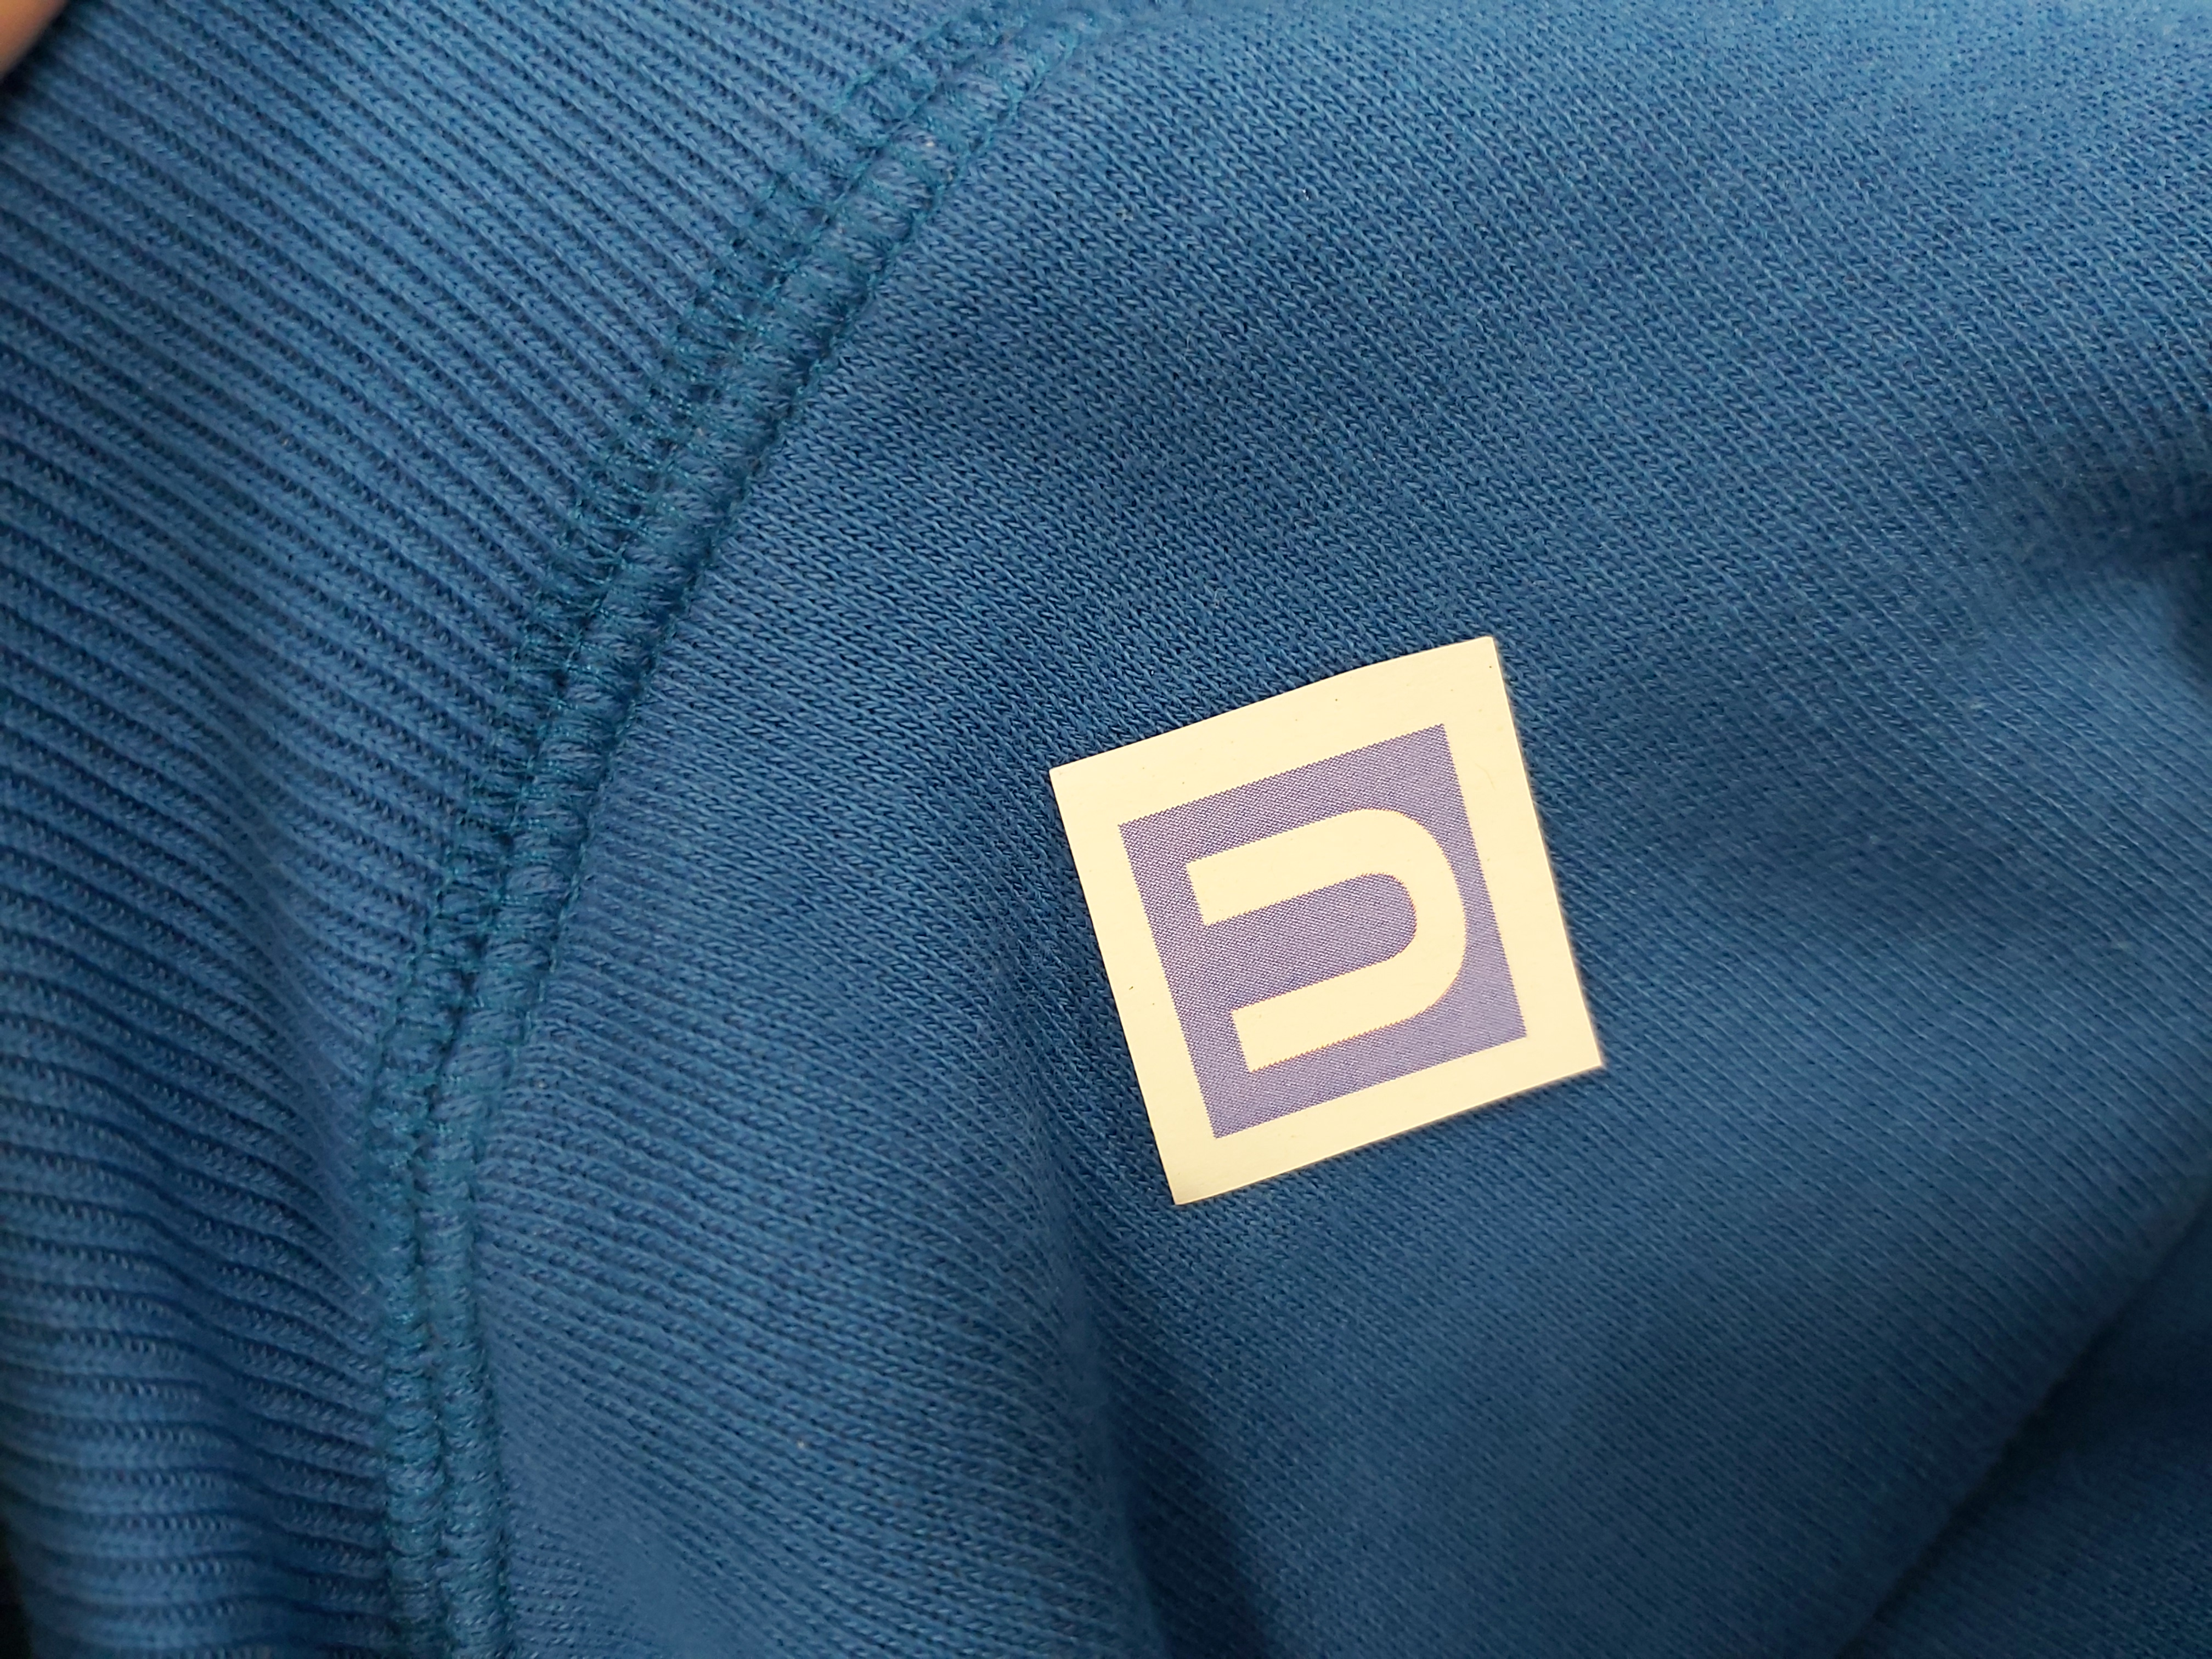marker: (1040, 636, 1611, 1199)
